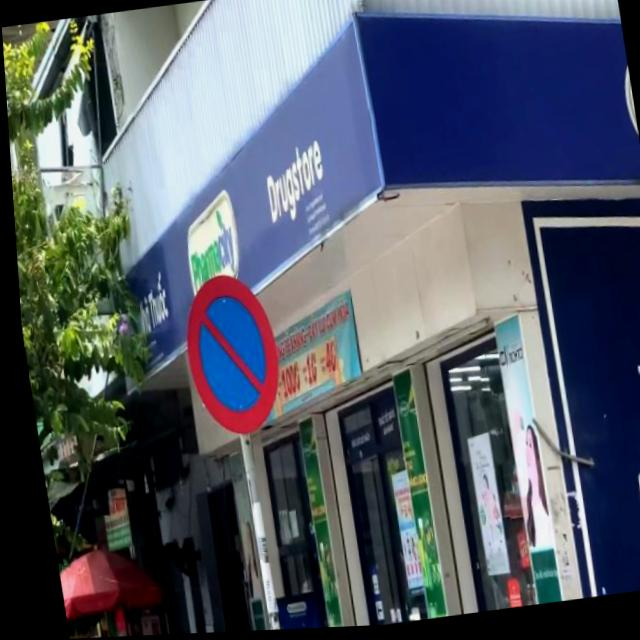Cam do xe: (172, 270, 284, 443)
